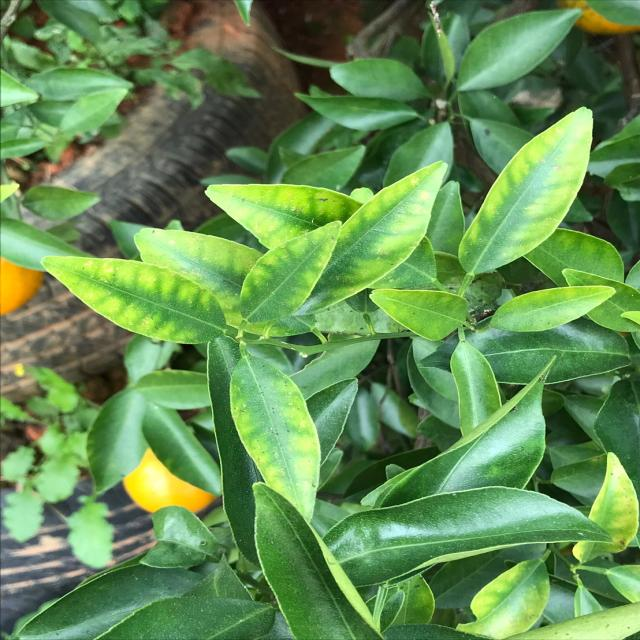greening: (458, 107, 599, 271), (228, 361, 327, 509), (48, 254, 221, 338), (233, 217, 341, 327), (346, 159, 445, 274)
